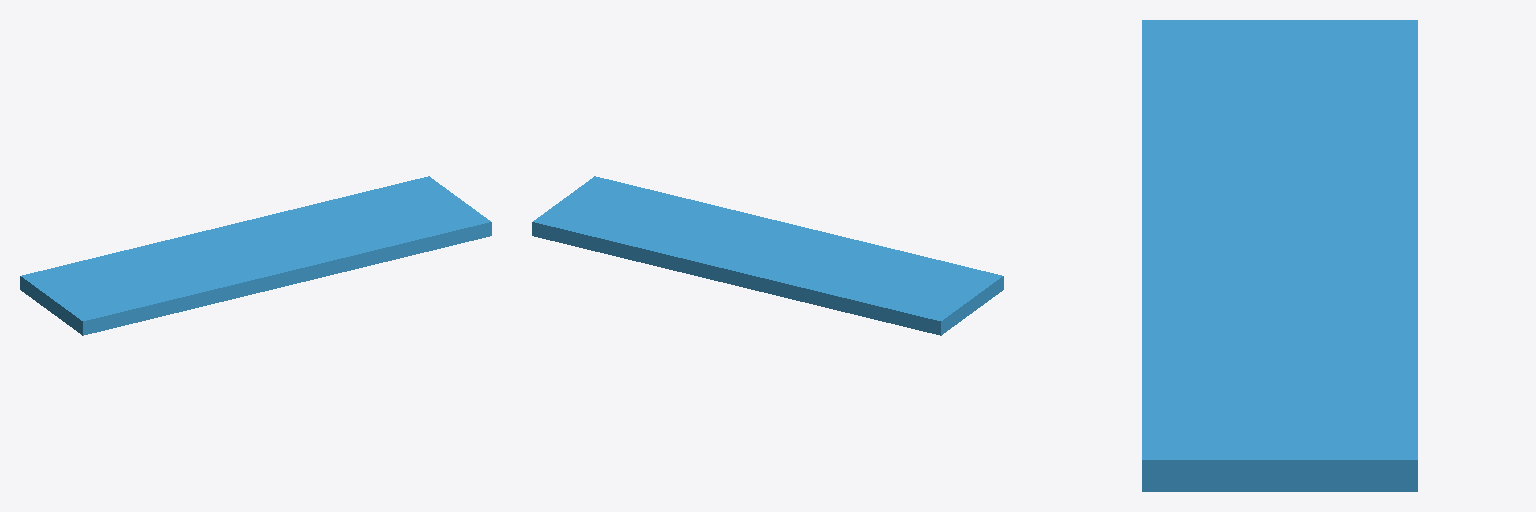
URDF robot description (cylinder_18):
    
    <robot name="cylinder_18">
        <link name="cylinder_18">    
            <fem>
                <origin rpy="0.0 0.0 0.0" xyz="0 0 0" />
                <density value="100" />
                <youngs value="9489"/>
                <poissons value="0.3" />
                <damping value="0.0" />
                <attachDistance value="0.01" />
                <tetmesh filename="[local-path]/sim_data/Custom/Custom_mesh/multi_cylinders_10kPa/cylinder_18.tet" />
                <scale value="0.5"/>
            </fem>
        </link>

        <link name="fix_frame">
            <visual>
                <origin xyz="0.0 0.0 10.061397922596539"/>
                <geometry>
                    <box size="0.15 0.03969509755076509 0.005"/>
                </geometry>
            </visual>
            <collision>
                <origin xyz="0.0 0.0 0.06139792259653912"/>
                <geometry>
                    <box size="0.15 0.03969509755076509 0.005"/>
                </geometry>
            </collision>
            <inertial>
                <mass value="500000"/>
                <inertia ixx="0.05" ixy="0.0" ixz="0.0" iyy="0.05" iyz="0.0" izz="0.05"/>
            </inertial>
        </link>
        
        <joint name = "attach" type = "fixed">
            <origin xyz = "0.0 0.0 0.0" rpy = "0 0 0"/>
            <parent link ="cylinder_18"/>
            <child link = "fix_frame"/>
        </joint>  




    </robot>
    

--- What the picture shows (computed from the rendered views, not written in the file) ---
The picture shows the robot from 3 angles, left to right: view 1: azimuth 30°, elevation 25°; view 2: azimuth 150°, elevation 25°; view 3: azimuth 270°, elevation 25°; orthographic projection.
Robot: cylinder_18 — 2 links, 1 joints (1 fixed); root link cylinder_18; default pose: all joints at 0.
Links seen in each view (by area): view 1: fix_frame; view 2: fix_frame; view 3: fix_frame.
Boxes of the visible links, <box> form: fix_frame: <box>20,176,491,335</box>; fix_frame: <box>532,176,1003,335</box>; fix_frame: <box>1142,20,1417,491</box>.
Bounding box of the posed robot: 0.15 × 0.0397 × 0.005 m (x, y, z).
Geometry: primitives only (box / cylinder / sphere), no mesh files.